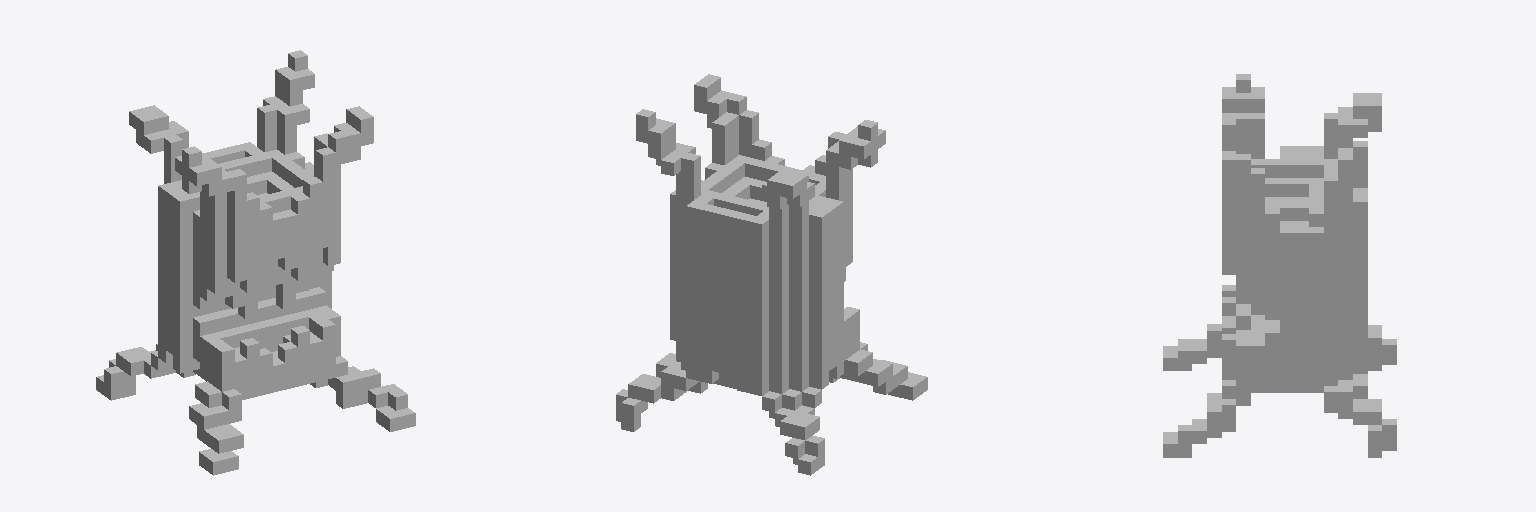
File: Treevil (alt).obj
3 renders of one model, left to right at view 1: azimuth 30°, elevation 25°; view 2: azimuth 150°, elevation 25°; view 3: azimuth 270°, elevation 25°, orthographic.
Parts seen in each view (by area): view 1: object 1; view 2: object 1; view 3: object 1.
Part boxes in pixels (left/top/right/bottom): object 1: left=96, top=50, right=415, bottom=475; object 1: left=616, top=74, right=927, bottom=475; object 1: left=1163, top=74, right=1396, bottom=457.
Bounding box in the file's own units: 1.6 × 2.3 × 1.6.